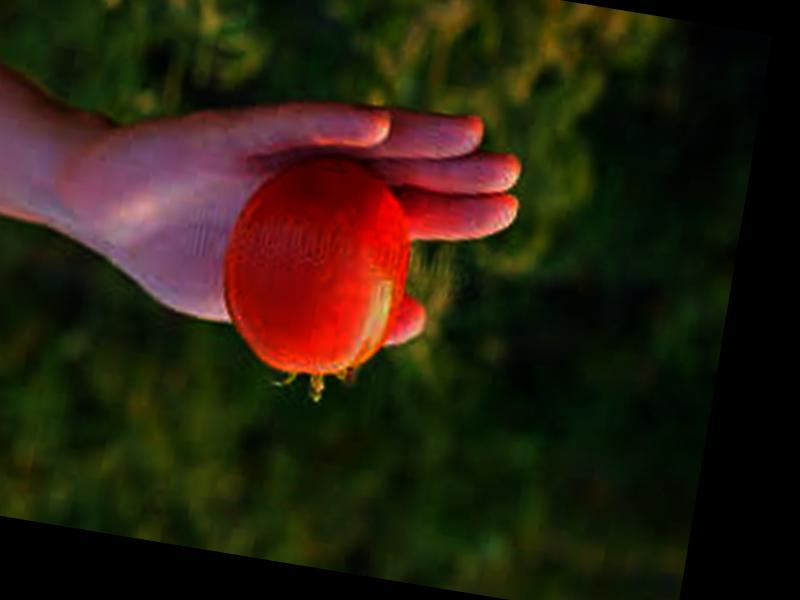Tomato: (211, 137, 422, 386)
